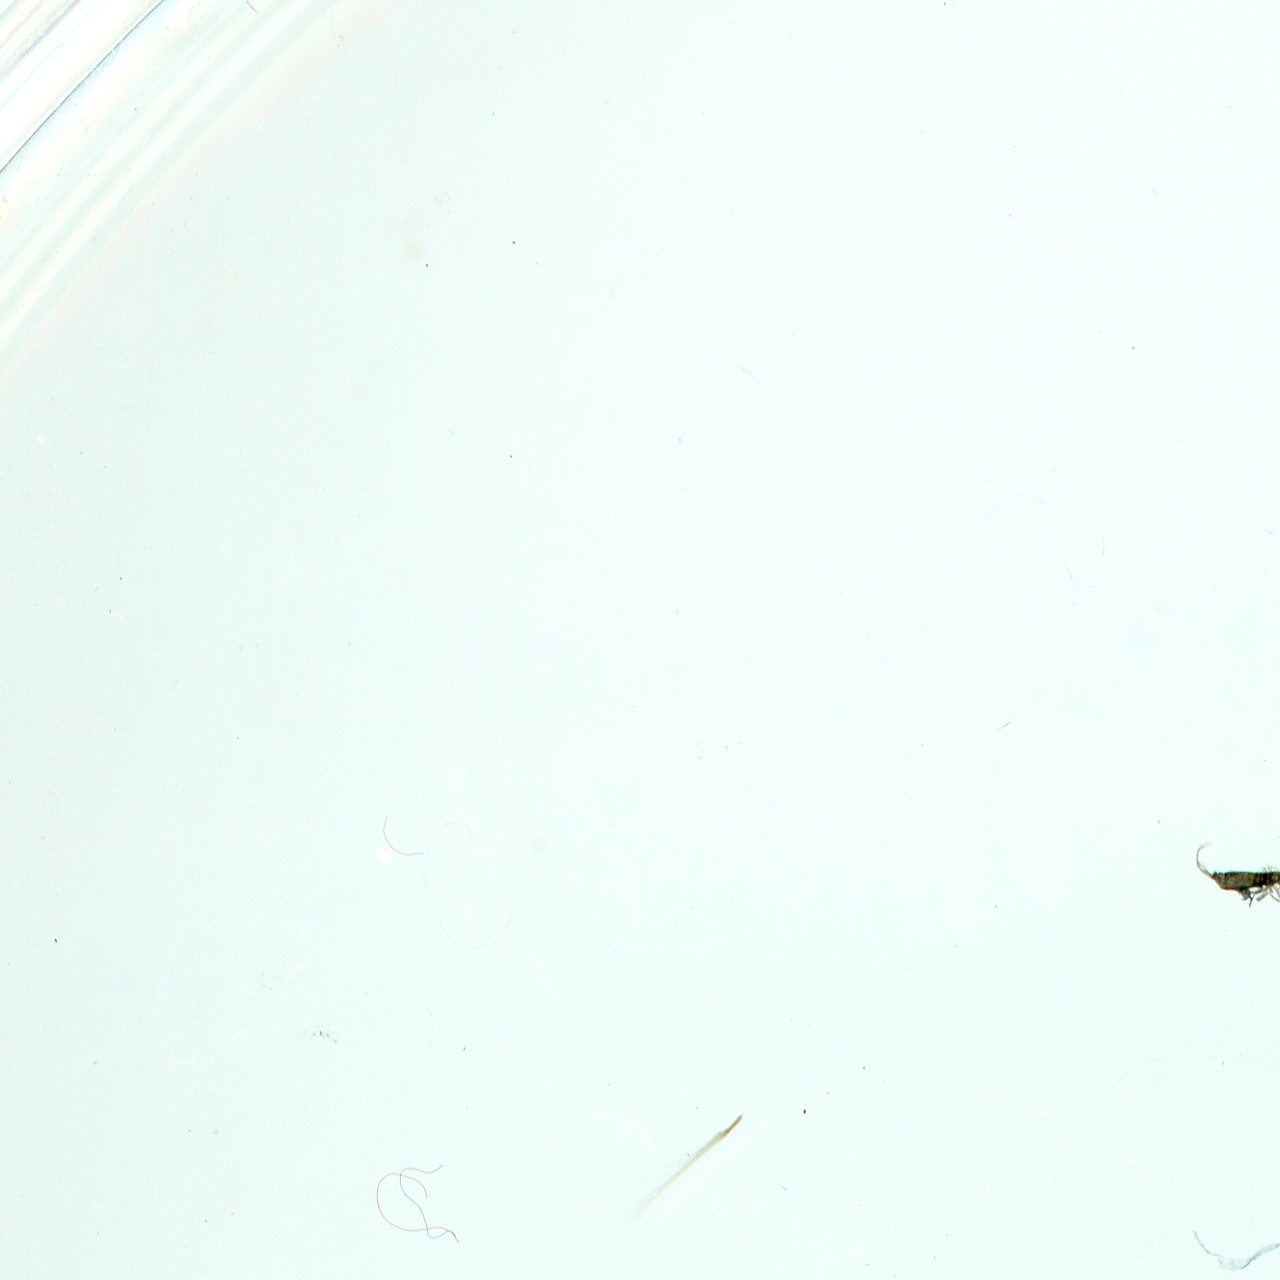arthropod: (1184, 845, 1280, 918)
